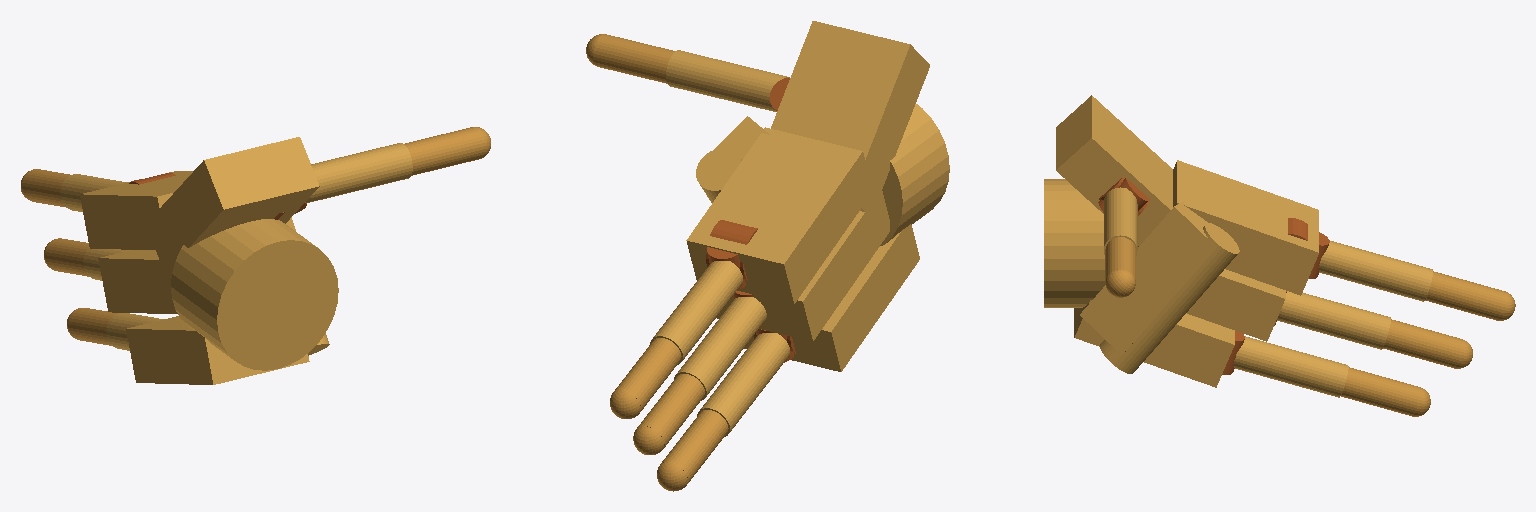
--- What the picture shows (computed from the rendered views, not written in the file) ---
3 views of the same robot in one strip: view 1: azimuth 30°, elevation 25°; view 2: azimuth 150°, elevation 25°; view 3: azimuth 270°, elevation 25° (orthographic).
Robot: sandia_hand_left — 34 links, 33 joints (12 revolute, 21 fixed); root link l_hand; default pose: every joint at zero.
Links seen in each view (by area): view 1: left_palm, left_f3_1, left_f3_2, left_f0_2, left_f2_2, left_f1_2, left_f0_1, left_f2_1, left_f1_1; view 2: left_palm, left_f3_1, left_f0_1, left_f2_1, left_f1_1, left_f1_2, left_f2_2, left_f0_2, left_f3_2, left_f0_0; view 3: left_palm, left_f2_1, left_f0_1, left_f1_1, left_f0_2, left_f2_2, left_f1_2, left_f3_1, left_f3_2, left_f0_0.
Boxes of the visible links, x1,y1,x2,y2 form: left_palm: (80, 137, 338, 384); left_f3_1: (306, 143, 412, 202); left_f3_2: (404, 127, 490, 175); left_f0_2: (21, 169, 70, 206); left_f2_2: (67, 308, 117, 345); left_f1_2: (44, 238, 89, 276); left_f0_1: (60, 174, 127, 211); left_f2_1: (106, 313, 163, 350); left_f1_1: (83, 248, 129, 280); left_palm: (686, 21, 949, 371); left_f3_1: (666, 50, 789, 111); left_f0_1: (650, 261, 742, 364); left_f2_1: (697, 333, 789, 436); left_f1_1: (674, 297, 766, 400); left_f1_2: (633, 374, 704, 454); left_f2_2: (657, 410, 728, 491); left_f0_2: (610, 338, 681, 418); left_f3_2: (586, 34, 674, 83); left_f0_0: (706, 220, 757, 289); left_palm: (1044, 95, 1318, 387); left_f2_1: (1234, 336, 1348, 397); left_f0_1: (1318, 241, 1432, 301); left_f1_1: (1277, 291, 1390, 349); left_f0_2: (1425, 271, 1515, 320); left_f2_2: (1341, 367, 1430, 416); left_f1_2: (1383, 319, 1472, 368); left_f3_1: (1104, 187, 1137, 255); left_f3_2: (1105, 237, 1135, 297); left_f0_0: (1288, 218, 1329, 278).
Size in the robot's own frame: 0.196 by 0.2782 by 0.1924 metres.
Geometry: primitives only (box / cylinder / sphere), no mesh files.

robot.urdf — sandia_hand_left:
<?xml version="1.0" ?>
<!-- copy from atlas_sandia_hand -->
<robot name="sandia_hand_left" xmlns:xacro="http://www.ros.org/wiki/xacro">

  <link name="left_palm">
    <origin rpy="0 0 0" xyz="0 0 0"/>
    <inertial>
      <mass value="1.303"/>
      <origin xyz="0 0 0"/>
      <!-- solid sphere with 5cm radius -->
      <inertia ixx="0.001303" ixy="0" ixz="0" iyy="0.001303" iyz="0" izz="0.001303"/>
    </inertial>
    <!-- begin simple shape approximation of palm -->
    <collision group="default">
      <origin rpy="0 1.57079632679 0.9" xyz="0.069 -0.016 0.038"/>
      <geometry>
        <cylinder length="0.100" radius="0.013"/>
      </geometry>
    </collision>
    <collision group="other">
      <origin rpy="-0.41 0 0.9" xyz="0.064 -0.008 0.021"/>
      <geometry>
        <box size="0.09 .035 .05"/>
      </geometry>
    </collision>
    <collision group="other">
      <origin rpy="0 1.57079632679 0" xyz="0.02 0 -0.005"/>
      <geometry>
        <cylinder length="0.05" radius="0.038"/>
      </geometry>
    </collision>
    <collision group="other">
      <origin rpy="0 0 -0.37" xyz="0.11 0.01 -0.005"/>
      <geometry>
        <box size="0.09 .03 .06"/>
      </geometry>
    </collision>
    <collision group="other">
      <origin rpy="0 0 -0.37" xyz="0.09 -0.02 -0.005"/>
      <geometry>
        <box size="0.09 .03 .06"/>
      </geometry>
    </collision>
    <collision group="other">
      <origin rpy="0 0 -0.37" xyz="0.060 -0.05 -0.005"/>
      <geometry>
        <box size="0.09 .03 .06"/>
      </geometry>
    </collision>
    <collision group="other">
      <origin rpy="0 0 -0.79" xyz="0.044 0.04 -0.005"/>
      <geometry>
        <box size="0.09 .03 .06"/>
      </geometry>
    </collision>
    <!--   end simple shape approximation of palm -->
    <!-- begin visual shape approximation of palm -->
    <visual>
      <origin rpy="0 1.57079632679 0.9" xyz="0.069 -0.016 0.038"/>
      <geometry>
        <cylinder length="0.100" radius="0.013"/>
      </geometry>
      <material name="left_sandia_hand_skin">
        <color rgba="0.835 0.655 0.345 1.0"/>
      </material>
    </visual>
    <visual>
      <origin rpy="-0.41 0 0.9" xyz="0.064 -0.008 0.021"/>
      <geometry>
        <box size="0.09 .035 .05"/>
      </geometry>
      <material name="left_sandia_hand_skin">
        <color rgba="0.835 0.655 0.345 1.0"/>
      </material>
    </visual>
    <visual>
      <origin rpy="0 1.57079632679 0" xyz="0.02 0 -0.005"/>
      <geometry>
        <cylinder length="0.05" radius="0.038"/>
      </geometry>
      <material name="left_sandia_hand_skin">
        <color rgba="0.835 0.655 0.345 1.0"/>
      </material>
    </visual>
    <visual>
      <origin rpy="0 0 -0.37" xyz="0.11 0.01 -0.005"/>
      <geometry>
        <box size="0.09 .03 .06"/>
      </geometry>
      <material name="left_sandia_hand_skin">
        <color rgba="0.835 0.655 0.345 1.0"/>
      </material>
    </visual>
    <visual>
      <origin rpy="0 0 -0.37" xyz="0.09 -0.02 -0.005"/>
      <geometry>
        <box size="0.09 .03 .06"/>
      </geometry>
      <material name="left_sandia_hand_skin">
        <color rgba="0.835 0.655 0.345 1.0"/>
      </material>
    </visual>
    <visual>
      <origin rpy="0 0 -0.37" xyz="0.060 -0.05 -0.005"/>
      <geometry>
        <box size="0.09 .03 .06"/>
      </geometry>
      <material name="left_sandia_hand_skin">
        <color rgba="0.835 0.655 0.345 1.0"/>
      </material>
    </visual>
    <visual>
      <origin rpy="0 0 -0.79" xyz="0.044 0.04 -0.005"/>
      <geometry>
        <box size="0.09 .03 .06"/>
      </geometry>
      <material name="left_sandia_hand_skin">
        <color rgba="0.835 0.655 0.345 1.0"/>
      </material>
    </visual>
    <!--   end visual shape approximation of palm -->
    <!-- begin collision mesh of f2 ->
      <collision group="default">
        <origin xyz="0 0 0" rpy="0 0 0"/>
        <geometry>
          <mesh filename="package://sandia_hand_description/meshes/palm.stl"/>
        </geometry>
      </collision>
      <!-   end collision mesh of f2 -->
    <!-- begin visual mesh of f2    ->
      <visual>
        <origin xyz="0 0 0" rpy="0 0 0"/>
        <geometry>
          <mesh filename="package://sandia_hand_description/meshes/palm.stl"/>
        </geometry>
        <material name="${side}_sandia_hand_skin">
          <color rgba="0.835 0.655 0.345 1.0"/>
        </material>
      </visual>
      <!-   end visual mesh of f2 -->
  </link>
  <link name="l_hand" />
  <joint name="left_sandia_hand_joint" type="fixed">
    <parent link="l_hand"/>
    <child link="left_palm"/>
    <origin rpy=" 1.57079 0  1.57079" xyz="0  0.1 0"/>
  </joint>
  <link name="left_f0_base">
    <origin rpy="0 0 0" xyz="0 0 0"/>
    <inertial>
      <!-- total mass is 2.303 kg, palm is about 1.303 kg, distribute the rest into _base -->
      <mass value="0.250"/>
      <!-- (2.303 - 1.303) / 4 -->
      <origin xyz="0 0 0"/>
      <!-- model as sphere with radius of 1cm -->
      <inertia ixx="0.00001" ixy="0" ixz="0" iyy="0.00001" iyz="0" izz="0.00001"/>
    </inertial>
  </link>
  <link name="left_f0_fixed_accel">
    <origin rpy="0 0 0" xyz="0 0 0"/>
    <inertial>
      <mass value="0.01"/>
      <origin xyz="0 0 0"/>
      <inertia ixx="0.000001" ixy="0" ixz="0" iyy="0.000001" iyz="0" izz="0.000001"/>
    </inertial>
  </link>
  <link name="left_f0_0">
    <origin rpy="0 0 0" xyz="0 0 0"/>
    <inertial>
      <mass value="0.106"/>
      <!-- F1 -->
      <origin xyz="0 0 0"/>
      <!-- solid cylinder -->
      <inertia ixx="0.000011925" ixy="0" ixz="0" iyy="0.00011505" iyz="0" izz="0.00011505"/>
    </inertial>
    <!-- begin simple shape approximation of f0 -->
    <collision group="default">
      <origin rpy="0 0 0" xyz="0 0 0.003"/>
      <geometry>
        <cylinder length="0.023" radius="0.015"/>
      </geometry>
    </collision>
    <collision group="other">
      <origin rpy="1.57079632679 0 0" xyz="0.011 0 0.003"/>
      <geometry>
        <cylinder length="0.023" radius="0.01"/>
      </geometry>
    </collision>
    <!--   end simple shape approximation of f0 -->
    <!-- begin visual shape approximation of f0 -->
    <visual>
      <origin rpy="0 0 0" xyz="0 0 0.003"/>
      <geometry>
        <cylinder length="0.023" radius="0.015"/>
      </geometry>
      <material name="left_sandia_hand_skin_suntan">
        <color rgba="0.7 0.4 0.2 1.0"/>
      </material>
    </visual>
    <visual>
      <origin rpy="1.57079632679 0 0" xyz="0.011 0 0.003"/>
      <geometry>
        <cylinder length="0.023" radius="0.01"/>
      </geometry>
      <material name="left_sandia_hand_skin_suntan">
        <color rgba="0.7 0.4 0.2 1.0"/>
      </material>
    </visual>
    <!--   end visual shape approximation of f0 -->
    <!-- begin collision mesh of f0 ->
      <collision group="default">
        <origin xyz="0 0 0" rpy="0 0 0"/>
        <geometry>
          <mesh filename="package://sandia_hand_description/meshes/f0.stl"/>
        </geometry>
      </collision>
      <!-   end collision mesh of f0 -->
    <!-- begin visual mesh of f0 ->
      <visual>
        <origin xyz="0 0 0" rpy="0 0 0"/>
        <geometry>
          <mesh filename="package://sandia_hand_description/meshes/f0.stl"/>
        </geometry>
        <material name="${side}_sandia_hand_skin_suntan">
          <color rgba="0.7 0.4 0.2 1.0"/>
        </material>
      </visual>
      <!-   end visual mesh of f0 -->
  </link>
  <link name="left_f0_1">
    <origin rpy="0 0 0" xyz="0 0 0"/>
    <inertial>
      <mass value="0.033"/>
      <!-- F2 -->
      <origin xyz="0 0 0"/>
      <!-- solid cylinder -->
      <inertia ixx="0.00000165" ixy="0" ixz="0" iyy="0.00001316975" iyz="0" izz="0.00001316975"/>
    </inertial>
    <!-- begin simple shape approximation of f1 -->
    <collision group="default">
      <origin rpy="0 1.57079632679 0" xyz="0.024 0 0"/>
      <geometry>
        <cylinder length="0.067" radius="0.01"/>
      </geometry>
    </collision>
    <!--   end simple shape approximation of f1 -->
    <!-- begin visual shape approximation of f1 -->
    <visual>
      <origin rpy="0 1.57079632679 0" xyz="0.024 0 0"/>
      <geometry>
        <cylinder length="0.067" radius="0.01"/>
      </geometry>
      <material name="left_sandia_hand_skin">
        <color rgba="0.835 0.655 0.345 1.0"/>
      </material>
    </visual>
    <!--   end visual shape approximation of f1 -->
    <!-- begin collision mesh of f1 ->
      <collision group="default">
        <origin xyz="0 0 0" rpy="0 0 0"/>
        <geometry>
          <mesh filename="package://sandia_hand_description/meshes/f1.stl"/>
        </geometry>
      </collision>
      <!-   end collision mesh of f1 -->
    <!-- begin visual mesh of f1 ->
      <visual>
        <origin xyz="0 0 0" rpy="0 0 0"/>
        <geometry>
          <mesh filename="package://sandia_hand_description/meshes/f1.stl"/>
        </geometry>
        <material name="${side}_sandia_hand_skin">
          <color rgba="0.835 0.655 0.345 1.0"/>
        </material>
      </visual>
      <!-   end visual mesh of f1 -->
  </link>
  <link name="left_f0_1_accel">
    <origin rpy="0 0 0" xyz="0 0 0"/>
    <inertial>
      <mass value="0.01"/>
      <origin xyz="0 0 0"/>
      <inertia ixx="0.000001" ixy="0" ixz="0" iyy="0.000001" iyz="0" izz="0.000001"/>
    </inertial>
  </link>
  <link name="left_f0_2">
    <origin rpy="0 0 0" xyz="0 0 0"/>
    <inertial>
      <mass value="0.033"/>
      <!-- F3 -->
      <origin xyz="0 0 0"/>
      <!-- solid cylinder -->
      <inertia ixx="0.0000013365" ixy="0" ixz="0" iyy="0.000009603" iyz="0" izz="0.000009603"/>
    </inertial>
    <!-- begin simple shape approximation of f2 -->
    <collision group="default">
      <origin rpy="0 1.57079632679 0" xyz="0.024 0 0"/>
      <geometry>
        <cylinder length="0.057" radius="0.009"/>
      </geometry>
    </collision>
    <collision group="other">
      <origin rpy="0 0 0" xyz="0.052 0 0"/>
      <geometry>
        <sphere radius="0.009"/>
      </geometry>
    </collision>
    <!--   end simple shape approximation of f2 -->
    <!-- begin visual shape approximation of f2 -->
    <visual>
      <origin rpy="0 1.57079632679 0" xyz="0.024 0 0"/>
      <geometry>
        <cylinder length="0.057" radius="0.009"/>
      </geometry>
      <material name="left_sandia_hand_skin_suntan">
        <color rgba="0.8 0.6 0.3 1.0"/>
      </material>
    </visual>
    <visual>
      <origin rpy="0 0 0" xyz="0.052 0 0"/>
      <geometry>
        <sphere radius="0.009"/>
      </geometry>
      <material name="left_sandia_hand_skin_suntan">
        <color rgba="0.8 0.6 0.3 1.0"/>
      </material>
    </visual>
    <!-- begin collision mesh of f2    ->
      <collision group="default">
        <origin xyz="0 0 0" rpy="0 0 0"/>
        <geometry>
          <mesh filename="package://sandia_hand_description/meshes/f2.stl"/>
        </geometry>
      </collision>
      <!-   end collision mesh of f2 -->
    <!-- begin visual mesh of f2    ->
      <visual>
        <origin xyz="0 0 0" rpy="0 0 0"/>
        <geometry>
          <mesh filename="package://sandia_hand_description/meshes/f2.stl"/>
        </geometry>
        <material name="${side}_sandia_hand_skin_suntan">
          <color rgba="0.8 0.6 0.3 1.0"/>
        </material>
      </visual>
      <!-   end visual mesh of f2 -->
  </link>
  <link name="left_f0_2_accel">
    <origin rpy="0 0 0" xyz="0 0 0"/>
    <inertial>
      <mass value="0.01"/>
      <origin xyz="0 0 0"/>
      <inertia ixx="0.000001" ixy="0" ixz="0" iyy="0.000001" iyz="0" izz="0.000001"/>
    </inertial>
  </link>
  <joint name="left_f0_base" type="fixed">
    <parent link="left_palm"/>
    <child link="left_f0_base"/>
    <origin rpy="0 0 -0.3" xyz="0.14 0.0 0"/>
  </joint>
  <joint name="left_f0_j0" type="revolute">
    <axis xyz="0 0 -1"/>
    <parent link="left_f0_base"/>
    <child link="left_f0_0"/>
    <limit effort="11" lower="-1.57079632679" upper="1.57079632679" velocity="24"/>
    <safety_controller k_position="1000.0" k_velocity="1000.0" soft_lower_limit="-11.57079" soft_upper_limit="11.57079"/>
    <dynamics damping="1.0"/>
    <origin rpy="0 0 0" xyz="0 0 0"/>
  </joint>
  <joint name="left_f0_j1" type="revolute">
    <axis xyz="0 0 1"/>
    <parent link="left_f0_0"/>
    <child link="left_f0_1"/>
    <limit effort="28" lower="-1.57079632679" upper="1.57079632679" velocity="24"/>
    <safety_controller k_position="1000.0" k_velocity="1000.0" soft_lower_limit="-11.57079" soft_upper_limit="11.57079"/>
    <dynamics damping="1.0"/>
    <origin rpy="1.57079632679 0 0" xyz="0.028 0 0"/>
  </joint>
  <joint name="left_f0_j2" type="revolute">
    <axis xyz="0 0 1"/>
    <parent link="left_f0_1"/>
    <child link="left_f0_2"/>
    <origin rpy="0 0 0" xyz="0.05 0 0"/>
    <safety_controller k_position="1000.0" k_velocity="1000.0" soft_lower_limit="-11.57079" soft_upper_limit="11.57079"/>
    <dynamics damping="1.0"/>
    <limit effort="28" lower="-1.57079632679" upper="1.57079632679" velocity="24"/>
  </joint>
  <joint name="left_f0_fixed_accel" type="fixed">
    <parent link="left_f0_base"/>
    <child link="left_f0_fixed_accel"/>
    <origin rpy="0 0 0" xyz="-0.05 0 0"/>
  </joint>
  <joint name="left_f0_1_accel" type="fixed">
    <parent link="left_f0_1"/>
    <child link="left_f0_1_accel"/>
    <origin rpy="-1.57079632679 0 0" xyz="0.03 0 0"/>
  </joint>
  <joint name="left_f0_2_accel" type="fixed">
    <parent link="left_f0_2"/>
    <child link="left_f0_2_accel"/>
    <origin rpy="-1.57079632679 0 0" xyz="0.04 0 0"/>
  </joint>
  <transmission name="left_f0_j0" type="pr2_mechanism_model/SimpleTransmission">
    <joint name="left_f0_j0"/>
    <actuator name="left_f0_j0_motor"/>
    <mechanicalReduction>1</mechanicalReduction>
  </transmission>
  <transmission name="left_f0_j1" type="pr2_mechanism_model/SimpleTransmission">
    <joint name="left_f0_j1"/>
    <actuator name="left_f0_j1_motor"/>
    <mechanicalReduction>1</mechanicalReduction>
  </transmission>
  <transmission name="left_f0_j2" type="pr2_mechanism_model/SimpleTransmission">
    <joint name="left_f0_j2"/>
    <actuator name="left_f0_j2_motor"/>
    <mechanicalReduction>1</mechanicalReduction>
  </transmission>
  <gazebo reference="left_f0_base">
    <mu1>1.1</mu1>
    <mu2>1.1</mu2>
    <kp>1000000.0</kp>
    <kd>10.0</kd>
    <maxVel>0.1</maxVel>
    <minDepth>0.00</minDepth>
    <maxContacts>1</maxContacts>
    <material>Gazebo/FlatBlack</material>
  </gazebo>
  <gazebo reference="left_f0_0">
    <mu1>1.1</mu1>
    <mu2>1.1</mu2>
    <kp>1000000.0</kp>
    <kd>10.0</kd>
    <maxVel>0.1</maxVel>
    <minDepth>0.00</minDepth>
    <maxContacts>1</maxContacts>
    <material>Gazebo/FlatBlack</material>
  </gazebo>
  <gazebo reference="left_f0_1">
    <mu1>1.1</mu1>
    <mu2>1.1</mu2>
    <kp>1000000.0</kp>
    <kd>10.0</kd>
    <maxVel>0.1</maxVel>
    <minDepth>0.00</minDepth>
    <maxContacts>1</maxContacts>
    <material>Gazebo/FlatBlack</material>
  </gazebo>
  <gazebo reference="left_f0_2">
    <mu1>1.1</mu1>
    <mu2>1.1</mu2>
    <kp>1000000.0</kp>
    <kd>10.0</kd>
    <maxVel>0.1</maxVel>
    <minDepth>0.00</minDepth>
    <maxContacts>1</maxContacts>
    <material>Gazebo/FlatBlack</material>
  </gazebo>
  <gazebo reference="left_f0_j0">
    <cfmDamping>1</cfmDamping>
  </gazebo>
  <gazebo reference="left_f0_j1">
    <cfmDamping>1</cfmDamping>
  </gazebo>
  <gazebo reference="left_f0_j2">
    <cfmDamping>1</cfmDamping>
  </gazebo>
  <link name="left_f1_base">
    <origin rpy="0 0 0" xyz="0 0 0"/>
    <inertial>
      <!-- total mass is 2.303 kg, palm is about 1.303 kg, distribute the rest into _base -->
      <mass value="0.250"/>
      <!-- (2.303 - 1.303) / 4 -->
      <origin xyz="0 0 0"/>
      <!-- model as sphere with radius of 1cm -->
      <inertia ixx="0.00001" ixy="0" ixz="0" iyy="0.00001" iyz="0" izz="0.00001"/>
    </inertial>
  </link>
  <link name="left_f1_fixed_accel">
    <origin rpy="0 0 0" xyz="0 0 0"/>
    <inertial>
      <mass value="0.01"/>
      <origin xyz="0 0 0"/>
      <inertia ixx="0.000001" ixy="0" ixz="0" iyy="0.000001" iyz="0" izz="0.000001"/>
    </inertial>
  </link>
  <link name="left_f1_0">
    <origin rpy="0 0 0" xyz="0 0 0"/>
    <inertial>
      <mass value="0.106"/>
      <!-- F1 -->
      <origin xyz="0 0 0"/>
      <!-- solid cylinder -->
      <inertia ixx="0.000011925" ixy="0" ixz="0" iyy="0.00011505" iyz="0" izz="0.00011505"/>
    </inertial>
    <!-- begin simple shape approximation of f0 -->
    <collision group="default">
      <origin rpy="0 0 0" xyz="0 0 0.003"/>
      <geometry>
        <cylinder length="0.023" radius="0.015"/>
      </geometry>
    </collision>
    <collision group="other">
      <origin rpy="1.57079632679 0 0" xyz="0.011 0 0.003"/>
      <geometry>
        <cylinder length="0.023" radius="0.01"/>
      </geometry>
    </collision>
    <!--   end simple shape approximation of f0 -->
    <!-- begin visual shape approximation of f0 -->
    <visual>
      <origin rpy="0 0 0" xyz="0 0 0.003"/>
      <geometry>
        <cylinder length="0.023" radius="0.015"/>
      </geometry>
      <material name="left_sandia_hand_skin_suntan">
        <color rgba="0.7 0.4 0.2 1.0"/>
      </material>
    </visual>
    <visual>
      <origin rpy="1.57079632679 0 0" xyz="0.011 0 0.003"/>
      <geometry>
        <cylinder length="0.023" radius="0.01"/>
      </geometry>
      <material name="left_sandia_hand_skin_suntan">
        <color rgba="0.7 0.4 0.2 1.0"/>
      </material>
    </visual>
    <!--   end visual shape approximation of f0 -->
    <!-- begin collision mesh of f0 ->
      <collision group="default">
        <origin xyz="0 0 0" rpy="0 0 0"/>
        <geometry>
          <mesh filename="package://sandia_hand_description/meshes/f0.stl"/>
        </geometry>
      </collision>
      <!-   end collision mesh of f0 -->
    <!-- begin visual mesh of f0 ->
      <visual>
        <origin xyz="0 0 0" rpy="0 0 0"/>
        <geometry>
          <mesh filename="package://sandia_hand_description/meshes/f0.stl"/>
        </geometry>
        <material name="${side}_sandia_hand_skin_suntan">
          <color rgba="0.7 0.4 0.2 1.0"/>
        </material>
      </visual>
      <!-   end visual mesh of f0 -->
  </link>
  <link name="left_f1_1">
    <origin rpy="0 0 0" xyz="0 0 0"/>
    <inertial>
      <mass value="0.033"/>
      <!-- F2 -->
      <origin xyz="0 0 0"/>
      <!-- solid cylinder -->
      <inertia ixx="0.00000165" ixy="0" ixz="0" iyy="0.00001316975" iyz="0" izz="0.00001316975"/>
    </inertial>
    <!-- begin simple shape approximation of f1 -->
    <collision group="default">
      <origin rpy="0 1.57079632679 0" xyz="0.024 0 0"/>
      <geometry>
        <cylinder length="0.067" radius="0.01"/>
      </geometry>
    </collision>
    <!--   end simple shape approximation of f1 -->
    <!-- begin visual shape approximation of f1 -->
    <visual>
      <origin rpy="0 1.57079632679 0" xyz="0.024 0 0"/>
      <geometry>
        <cylinder length="0.067" radius="0.01"/>
      </geometry>
      <material name="left_sandia_hand_skin">
        <color rgba="0.835 0.655 0.345 1.0"/>
      </material>
    </visual>
    <!--   end visual shape approximation of f1 -->
    <!-- begin collision mesh of f1 ->
      <collision group="default">
        <origin xyz="0 0 0" rpy="0 0 0"/>
        <geometry>
          <mesh filename="package://sandia_hand_description/meshes/f1.stl"/>
        </geometry>
      </collision>
      <!-   end collision mesh of f1 -->
    <!-- begin visual mesh of f1 ->
      <visual>
        <origin xyz="0 0 0" rpy="0 0 0"/>
        <geometry>
          <mesh filename="package://sandia_hand_description/meshes/f1.stl"/>
        </geometry>
        <material name="${side}_sandia_hand_skin">
          <color rgba="0.835 0.655 0.345 1.0"/>
        </material>
      </visual>
      <!-   end visual mesh of f1 -->
  </link>
  <link name="left_f1_1_accel">
    <origin rpy="0 0 0" xyz="0 0 0"/>
    <inertial>
      <mass value="0.01"/>
      <origin xyz="0 0 0"/>
      <inertia ixx="0.000001" ixy="0" ixz="0" iyy="0.000001" iyz="0" izz="0.000001"/>
    </inertial>
  </link>
  <link name="left_f1_2">
    <origin rpy="0 0 0" xyz="0 0 0"/>
    <inertial>
      <mass value="0.033"/>
      <!-- F3 -->
      <origin xyz="0 0 0"/>
      <!-- solid cylinder -->
      <inertia ixx="0.0000013365" ixy="0" ixz="0" iyy="0.000009603" iyz="0" izz="0.000009603"/>
    </inertial>
    <!-- begin simple shape approximation of f2 -->
    <collision group="default">
      <origin rpy="0 1.57079632679 0" xyz="0.024 0 0"/>
      <geometry>
        <cylinder length="0.057" radius="0.009"/>
      </geometry>
    </collision>
    <collision group="other">
      <origin rpy="0 0 0" xyz="0.052 0 0"/>
      <geometry>
        <sphere radius="0.009"/>
      </geometry>
    </collision>
    <!--   end simple shape approximation of f2 -->
    <!-- begin visual shape approximation of f2 -->
    <visual>
      <origin rpy="0 1.57079632679 0" xyz="0.024 0 0"/>
      <geometry>
        <cylinder length="0.057" radius="0.009"/>
      </geometry>
      <material name="left_sandia_hand_skin_suntan">
        <color rgba="0.8 0.6 0.3 1.0"/>
      </material>
    </visual>
    <visual>
      <origin rpy="0 0 0" xyz="0.052 0 0"/>
      <geometry>
        <sphere radius="0.009"/>
      </geometry>
      <material name="left_sandia_hand_skin_suntan">
        <color rgba="0.8 0.6 0.3 1.0"/>
      </material>
    </visual>
    <!-- begin collision mesh of f2    ->
      <collision group="default">
        <origin xyz="0 0 0" rpy="0 0 0"/>
        <geometry>
          <mesh filename="package://sandia_hand_description/meshes/f2.stl"/>
        </geometry>
      </collision>
      <!-   end collision mesh of f2 -->
    <!-- begin visual mesh of f2    ->
      <visual>
        <origin xyz="0 0 0" rpy="0 0 0"/>
        <geometry>
          <mesh filename="package://sandia_hand_description/meshes/f2.stl"/>
        </geometry>
        <material name="${side}_sandia_hand_skin_suntan">
          <color rgba="0.8 0.6 0.3 1.0"/>
        </material>
      </visual>
      <!-   end visual mesh of f2 -->
  </link>
  <link name="left_f1_2_accel">
    <origin rpy="0 0 0" xyz="0 0 0"/>
    <inertial>
      <mass value="0.01"/>
      <origin xyz="0 0 0"/>
      <inertia ixx="0.000001" ixy="0" ixz="0" iyy="0.000001" iyz="0" izz="0.000001"/>
    </inertial>
  </link>
  <joint name="left_f1_base" type="fixed">
    <parent link="left_palm"/>
    <child link="left_f1_base"/>
    <origin rpy="0 0 -0.3" xyz="0.115 -0.03122 0"/>
  </joint>
  <joint name="left_f1_j0" type="revolute">
    <axis xyz="0 0 -1"/>
    <parent link="left_f1_base"/>
    <child link="left_f1_0"/>
    <limit effort="11" lower="-1.57079632679" upper="1.57079632679" velocity="24"/>
    <safety_controller k_position="1000.0" k_velocity="1000.0" soft_lower_limit="-11.57079" soft_upper_limit="11.57079"/>
    <dynamics damping="1.0"/>
    <origin rpy="0 0 0" xyz="0 0 0"/>
  </joint>
  <joint name="left_f1_j1" type="revolute">
    <axis xyz="0 0 1"/>
    <parent link="left_f1_0"/>
    <child link="left_f1_1"/>
    <limit effort="28" lower="-1.57079632679" upper="1.57079632679" velocity="24"/>
    <safety_controller k_position="1000.0" k_velocity="1000.0" soft_lower_limit="-11.57079" soft_upper_limit="11.57079"/>
    <dynamics damping="1.0"/>
    <origin rpy="1.57079632679 0 0" xyz="0.028 0 0"/>
  </joint>
  <joint name="left_f1_j2" type="revolute">
    <axis xyz="0 0 1"/>
    <parent link="left_f1_1"/>
    <child link="left_f1_2"/>
    <origin rpy="0 0 0" xyz="0.05 0 0"/>
    <safety_controller k_position="1000.0" k_velocity="1000.0" soft_lower_limit="-11.57079" soft_upper_limit="11.57079"/>
    <dynamics damping="1.0"/>
    <limit effort="28" lower="-1.57079632679" upper="1.57079632679" velocity="24"/>
  </joint>
  <joint name="left_f1_fixed_accel" type="fixed">
    <parent link="left_f1_base"/>
    <child link="left_f1_fixed_accel"/>
    <origin rpy="0 0 0" xyz="-0.05 0 0"/>
  </joint>
  <joint name="left_f1_1_accel" type="fixed">
    <parent link="left_f1_1"/>
    <child link="left_f1_1_accel"/>
    <origin rpy="-1.57079632679 0 0" xyz="0.03 0 0"/>
  </joint>
  <joint name="left_f1_2_accel" type="fixed">
    <parent link="left_f1_2"/>
    <child link="left_f1_2_accel"/>
    <origin rpy="-1.57079632679 0 0" xyz="0.04 0 0"/>
  </joint>
  <transmission name="left_f1_j0" type="pr2_mechanism_model/SimpleTransmission">
    <joint name="left_f1_j0"/>
    <actuator name="left_f1_j0_motor"/>
    <mechanicalReduction>1</mechanicalReduction>
  </transmission>
  <transmission name="left_f1_j1" type="pr2_mechanism_model/SimpleTransmission">
    <joint name="left_f1_j1"/>
    <actuator name="left_f1_j1_motor"/>
    <mechanicalReduction>1</mechanicalReduction>
  </transmission>
  <transmission name="left_f1_j2" type="pr2_mechanism_model/SimpleTransmission">
    <joint name="left_f1_j2"/>
    <actuator name="left_f1_j2_motor"/>
    <mechanicalReduction>1</mechanicalReduction>
  </transmission>
  <gazebo reference="left_f1_base">
    <mu1>1.1</mu1>
    <mu2>1.1</mu2>
    <kp>1000000.0</kp>
    <kd>10.0</kd>
    <maxVel>0.1</maxVel>
    <minDepth>0.00</minDepth>
    <maxContacts>1</maxContacts>
    <material>Gazebo/FlatBlack</material>
  </gazebo>
  <gazebo reference="left_f1_0">
    <mu1>1.1</mu1>
    <mu2>1.1</mu2>
    <kp>1000000.0</kp>
    <kd>10.0</kd>
    <maxVel>0.1</maxVel>
    <minDepth>0.00</minDepth>
    <maxContacts>1</maxContacts>
    <material>Gazebo/FlatBlack</material>
  </gazebo>
  <gazebo reference="left_f1_1">
    <mu1>1.1</mu1>
    <mu2>1.1</mu2>
    <kp>1000000.0</kp>
    <kd>10.0</kd>
    <maxVel>0.1</maxVel>
    <minDepth>0.00</minDepth>
    <maxContacts>1</maxContacts>
    <material>Gazebo/FlatBlack</material>
  </gazebo>
  <gazebo reference="left_f1_2">
    <mu1>1.1</mu1>
    <mu2>1.1</mu2>
    <kp>1000000.0</kp>
    <kd>10.0</kd>
    <maxVel>0.1</maxVel>
    <minDepth>0.00</minDepth>
    <maxContacts>1</maxContacts>
    <material>Gazebo/FlatBlack</material>
  </gazebo>
  <gazebo reference="left_f1_j0">
    <cfmDamping>1</cfmDamping>
  </gazebo>
  <gazebo reference="left_f1_j1">
    <cfmDamping>1</cfmDamping>
  </gazebo>
  <gazebo reference="left_f1_j2">
    <cfmDamping>1</cfmDamping>
  </gazebo>
  <link name="left_f2_base">
    <origin rpy="0 0 0" xyz="0 0 0"/>
    <inertial>
      <!-- total mass is 2.303 kg, palm is about 1.303 kg, distribute the rest into _base -->
      <mass value="0.250"/>
      <!-- (2.303 - 1.303) / 4 -->
      <origin xyz="0 0 0"/>
      <!-- model as sphere with radius of 1cm -->
      <inertia ixx="0.00001" ixy="0" ixz="0" iyy="0.00001" iyz="0" izz="0.00001"/>
    </inertial>
  </link>
  <link name="left_f2_fixed_accel">
    <origin rpy="0 0 0" xyz="0 0 0"/>
    <inertial>
      <mass value="0.01"/>
      <origin xyz="0 0 0"/>
      <inertia ixx="0.000001" ixy="0" ixz="0" iyy="0.000001" iyz="0" izz="0.000001"/>
    </inertial>
  </link>
  <link name="left_f2_0">
    <origin rpy="0 0 0" xyz="0 0 0"/>
    <inertial>
      <mass value="0.106"/>
      <!-- F1 -->
      <origin xyz="0 0 0"/>
      <!-- solid cylinder -->
      <inertia ixx="0.000011925" ixy="0" ixz="0" iyy="0.00011505" iyz="0" izz="0.00011505"/>
    </inertial>
    <!-- begin simple shape approximation of f0 -->
    <collision group="default">
      <origin rpy="0 0 0" xyz="0 0 0.003"/>
      <geometry>
        <cylinder length="0.023" radius="0.015"/>
      </geometry>
    </collision>
    <collision group="other">
      <origin rpy="1.57079632679 0 0" xyz="0.011 0 0.003"/>
      <geometry>
        <cylinder length="0.023" radius="0.01"/>
      </geometry>
    </collision>
    <!--   end simple shape approximation of f0 -->
    <!-- begin visual shape approximation of f0 -->
    <visual>
      <origin rpy="0 0 0" xyz="0 0 0.003"/>
      <geometry>
        <cylinder length="0.023" radius="0.015"/>
      </geometry>
      <material name="left_sandia_hand_skin_suntan">
        <color rgba="0.7 0.4 0.2 1.0"/>
      </material>
    </visual>
    <visual>
      <origin rpy="1.57079632679 0 0" xyz="0.011 0 0.003"/>
      <geometry>
        <cylinder length="0.023" radius="0.01"/>
      </geometry>
      <material name="left_sandia_hand_skin_suntan">
        <color rgba="0.7 0.4 0.2 1.0"/>
      </material>
    </visual>
    <!--   end visual shape approximation of f0 -->
    <!-- begin collision mesh of f0 ->
      <collision group="default">
        <origin xyz="0 0 0" rpy="0 0 0"/>
        <geometry>
          <mesh filename="package://sandia_hand_description/meshes/f0.stl"/>
        </geometry>
      </collision>
      <!-   end collision mesh of f0 -->
    <!-- begin visual mesh of f0 ->
      <visual>
        <origin xyz="0 0 0" rpy="0 0 0"/>
        <geometry>
          <mesh filename="package://sandia_hand_description/meshes/f0.stl"/>
        </geometry>
        <material name="${side}_sandia_hand_skin_suntan">
          <color rgba="0.7 0.4 0.2 1.0"/>
        </material>
      </visual>
      <!-   end visual mesh of f0 -->
  </link>
  <link name="left_f2_1">
    <origin rpy="0 0 0" xyz="0 0 0"/>
    <inertial>
      <mass value="0.033"/>
      <!-- F2 -->
      <origin xyz="0 0 0"/>
      <!-- solid cylinder -->
      <inertia ixx="0.00000165" ixy="0" ixz="0" iyy="0.00001316975" iyz="0" izz="0.00001316975"/>
    </inertial>
    <!-- begin simple shape approximation of f1 -->
    <collision group="default">
      <origin rpy="0 1.57079632679 0" xyz="0.024 0 0"/>
      <geometry>
        <cylinder length="0.067" radius="0.01"/>
      </geometry>
    </collision>
    <!--   end simple shape approximation of f1 -->
    <!-- begin visual shape approximation of f1 -->
    <visual>
      <origin rpy="0 1.57079632679 0" xyz="0.024 0 0"/>
      <geometry>
        <cylinder length="0.067" radius="0.01"/>
      </geometry>
      <material name="left_sandia_hand_skin">
        <color rgba="0.835 0.655 0.345 1.0"/>
      </material>
    </visual>
    <!--   end visual shape approximation of f1 -->
    <!-- begin collision mesh of f1 ->
      <collision group="default">
        <origin xyz="0 0 0" rpy="0 0 0"/>
        <geometry>
          <mesh filename="package://sandia_hand_description/meshes/f1.stl"/>
        </geometry>
      </collision>
      <!-   end collision mesh of f1 -->
    <!-- begin visual mesh of f1 ->
      <visual>
        <origin xyz="0 0 0" rpy="0 0 0"/>
        <geometry>
          <mesh filename="package://sandia_hand_description/meshes/f1.stl"/>
        </geometry>
        <material name="${side}_sandia_hand_skin">
          <color rgba="0.835 0.655 0.345 1.0"/>
        </material>
      </visual>
      <!-   end visual mesh of f1 -->
  </link>
  <link name="left_f2_1_accel">
    <origin rpy="0 0 0" xyz="0 0 0"/>
    <inertial>
      <mass value="0.01"/>
      <origin xyz="0 0 0"/>
      <inertia ixx="0.000001" ixy="0" ixz="0" iyy="0.000001" iyz="0" izz="0.000001"/>
    </inertial>
  </link>
  <link name="left_f2_2">
    <origin rpy="0 0 0" xyz="0 0 0"/>
    <inertial>
      <mass value="0.033"/>
      <!-- F3 -->
      <origin xyz="0 0 0"/>
      <!-- solid cylinder -->
      <inertia ixx="0.0000013365" ixy="0" ixz="0" iyy="0.000009603" iyz="0" izz="0.000009603"/>
    </inertial>
    <!-- begin simple shape approximation of f2 -->
    <collision group="default">
      <origin rpy="0 1.57079632679 0" xyz="0.024 0 0"/>
      <geometry>
        <cylinder length="0.057" radius="0.009"/>
      </geometry>
    </collision>
    <collision group="other">
      <origin rpy="0 0 0" xyz="0.052 0 0"/>
      <geometry>
        <sphere radius="0.009"/>
      </geometry>
    </collision>
    <!--   end simple shape approximation of f2 -->
    <!-- begin visual shape approximation of f2 -->
    <visual>
      <origin rpy="0 1.57079632679 0" xyz="0.024 0 0"/>
      <geometry>
        <cylinder length="0.057" radius="0.009"/>
      </geometry>
      <material name="left_sandia_hand_skin_suntan">
        <color rgba="0.8 0.6 0.3 1.0"/>
      </material>
    </visual>
    <visual>
      <origin rpy="0 0 0" xyz="0.052 0 0"/>
      <geometry>
        <sphere radius="0.009"/>
      </geometry>
      <material name="left_sandia_hand_skin_suntan">
        <color rgba="0.8 0.6 0.3 1.0"/>
      </material>
    </visual>
    <!-- begin collision mesh of f2    ->
      <collision group="default">
        <origin xyz="0 0 0" rpy="0 0 0"/>
        <geometry>
          <mesh filename="package://sandia_hand_description/meshes/f2.stl"/>
        </geometry>
      </collision>
      <!-   end collision mesh of f2 -->
    <!-- begin visual mesh of f2    ->
      <visual>
        <origin xyz="0 0 0" rpy="0 0 0"/>
        <geometry>
          <mesh filename="package://sandia_hand_description/meshes/f2.stl"/>
        </geometry>
        <material name="${side}_sandia_hand_skin_suntan">
          <color rgba="0.8 0.6 0.3 1.0"/>
        </material>
      </visual>
      <!-   end visual mesh of f2 -->
  </link>
  <link name="left_f2_2_accel">
    <origin rpy="0 0 0" xyz="0 0 0"/>
    <inertial>
      <mass value="0.01"/>
      <origin xyz="0 0 0"/>
      <inertia ixx="0.000001" ixy="0" ixz="0" iyy="0.000001" iyz="0" izz="0.000001"/>
    </inertial>
  </link>
  <joint name="left_f2_base" type="fixed">
    <parent link="left_palm"/>
    <child link="left_f2_base"/>
    <origin rpy="0 0 -0.3" xyz="0.09 -0.06245 0"/>
  </joint>
  <joint name="left_f2_j0" type="revolute">
    <axis xyz="0 0 -1"/>
    <parent link="left_f2_base"/>
    <child link="left_f2_0"/>
    <limit effort="11" lower="-1.57079632679" upper="1.57079632679" velocity="24"/>
    <safety_controller k_position="1000.0" k_velocity="1000.0" soft_lower_limit="-11.57079" soft_upper_limit="11.57079"/>
    <dynamics damping="1.0"/>
    <origin rpy="0 0 0" xyz="0 0 0"/>
  </joint>
  <joint name="left_f2_j1" type="revolute">
    <axis xyz="0 0 1"/>
    <parent link="left_f2_0"/>
    <child link="left_f2_1"/>
    <limit effort="28" lower="-1.57079632679" upper="1.57079632679" velocity="24"/>
    <safety_controller k_position="1000.0" k_velocity="1000.0" soft_lower_limit="-11.57079" soft_upper_limit="11.57079"/>
    <dynamics damping="1.0"/>
    <origin rpy="1.57079632679 0 0" xyz="0.028 0 0"/>
  </joint>
  <joint name="left_f2_j2" type="revolute">
    <axis xyz="0 0 1"/>
    <parent link="left_f2_1"/>
    <child link="left_f2_2"/>
    <origin rpy="0 0 0" xyz="0.05 0 0"/>
    <safety_controller k_position="1000.0" k_velocity="1000.0" soft_lower_limit="-11.57079" soft_upper_limit="11.57079"/>
    <dynamics damping="1.0"/>
    <limit effort="28" lower="-1.57079632679" upper="1.57079632679" velocity="24"/>
  </joint>
  <joint name="left_f2_fixed_accel" type="fixed">
    <parent link="left_f2_base"/>
    <child link="left_f2_fixed_accel"/>
    <origin rpy="0 0 0" xyz="-0.05 0 0"/>
  </joint>
  <joint name="left_f2_1_accel" type="fixed">
    <parent link="left_f2_1"/>
    <child link="left_f2_1_accel"/>
    <origin rpy="-1.57079632679 0 0" xyz="0.03 0 0"/>
  </joint>
  <joint name="left_f2_2_accel" type="fixed">
    <parent link="left_f2_2"/>
    <child link="left_f2_2_accel"/>
    <origin rpy="-1.57079632679 0 0" xyz="0.04 0 0"/>
  </joint>
  <transmission name="left_f2_j0" type="pr2_mechanism_model/SimpleTransmission">
    <joint name="left_f2_j0"/>
    <actuator name="left_f2_j0_motor"/>
    <mechanicalReduction>1</mechanicalReduction>
  </transmission>
  <transmission name="left_f2_j1" type="pr2_mechanism_model/SimpleTransmission">
    <joint name="left_f2_j1"/>
    <actuator name="left_f2_j1_motor"/>
    <mechanicalReduction>1</mechanicalReduction>
  </transmission>
  <transmission name="left_f2_j2" type="pr2_mechanism_model/SimpleTransmission">
    <joint name="left_f2_j2"/>
    <actuator name="left_f2_j2_motor"/>
    <mechanicalReduction>1</mechanicalReduction>
  </transmission>
  <gazebo reference="left_f2_base">
    <mu1>1.1</mu1>
    <mu2>1.1</mu2>
    <kp>1000000.0</kp>
    <kd>10.0</kd>
    <maxVel>0.1</maxVel>
    <minDepth>0.00</minDepth>
    <maxContacts>1</maxContacts>
    <material>Gazebo/FlatBlack</material>
  </gazebo>
  <gazebo reference="left_f2_0">
    <mu1>1.1</mu1>
    <mu2>1.1</mu2>
    <kp>1000000.0</kp>
    <kd>10.0</kd>
    <maxVel>0.1</maxVel>
    <minDepth>0.00</minDepth>
    <maxContacts>1</maxContacts>
    <material>Gazebo/FlatBlack</material>
  </gazebo>
  <gazebo reference="left_f2_1">
    <mu1>1.1</mu1>
    <mu2>1.1</mu2>
    <kp>1000000.0</kp>
    <kd>10.0</kd>
    <maxVel>0.1</maxVel>
    <minDepth>0.00</minDepth>
    <maxContacts>1</maxContacts>
    <material>Gazebo/FlatBlack</material>
  </gazebo>
  <gazebo reference="left_f2_2">
    <mu1>1.1</mu1>
    <mu2>1.1</mu2>
    <kp>1000000.0</kp>
    <kd>10.0</kd>
    <maxVel>0.1</maxVel>
    <minDepth>0.00</minDepth>
    <maxContacts>1</maxContacts>
    <material>Gazebo/FlatBlack</material>
  </gazebo>
  <gazebo reference="left_f2_j0">
    <cfmDamping>1</cfmDamping>
  </gazebo>
  <gazebo reference="left_f2_j1">
    <cfmDamping>1</cfmDamping>
  </gazebo>
  <gazebo reference="left_f2_j2">
    <cfmDamping>1</cfmDamping>
  </gazebo>
  <link name="left_f3_base">
    <origin rpy="0 0 0" xyz="0 0 0"/>
    <inertial>
      <!-- total mass is 2.303 kg, palm is about 1.303 kg, distribute the rest into _base -->
      <mass value="0.250"/>
      <!-- (2.303 - 1.303) / 4 -->
      <origin xyz="0 0 0"/>
      <!-- model as sphere with radius of 1cm -->
      <inertia ixx="0.00001" ixy="0" ixz="0" iyy="0.00001" iyz="0" izz="0.00001"/>
    </inertial>
  </link>
  <link name="left_f3_fixed_accel">
    <origin rpy="0 0 0" xyz="0 0 0"/>
    <inertial>
      <mass value="0.01"/>
      <origin xyz="0 0 0"/>
      <inertia ixx="0.000001" ixy="0" ixz="0" iyy="0.000001" iyz="0" izz="0.000001"/>
    </inertial>
  </link>
  <link name="left_f3_0">
    <origin rpy="0 0 0" xyz="0 0 0"/>
    <inertial>
      <mass value="0.106"/>
      <!-- F1 -->
      <origin xyz="0 0 0"/>
      <!-- solid cylinder -->
      <inertia ixx="0.000011925" ixy="0" ixz="0" iyy="0.00011505" iyz="0" izz="0.00011505"/>
    </inertial>
    <!-- begin simple shape approximation of f0 -->
    <collision group="default">
      <origin rpy="0 0 0" xyz="0 0 0.003"/>
      <geometry>
        <cylinder length="0.023" radius="0.015"/>
      </geometry>
    </collision>
    <collision group="other">
      <origin rpy="1.57079632679 0 0" xyz="0.011 0 0.003"/>
      <geometry>
        <cylinder length="0.023" radius="0.01"/>
      </geometry>
    </collision>
    <!--   end simple shape approximation of f0 -->
    <!-- begin visual shape approximation of f0 -->
    <visual>
      <origin rpy="0 0 0" xyz="0 0 0.003"/>
      <geometry>
        <cylinder length="0.023" radius="0.015"/>
      </geometry>
      <material name="left_sandia_hand_skin_suntan">
        <color rgba="0.7 0.4 0.2 1.0"/>
      </material>
    </visual>
    <visual>
      <origin rpy="1.57079632679 0 0" xyz="0.011 0 0.003"/>
      <geometry>
        <cylinder length="0.023" radius="0.01"/>
      </geometry>
      <material name="left_sandia_hand_skin_suntan">
        <color rgba="0.7 0.4 0.2 1.0"/>
      </material>
    </visual>
    <!--   end visual shape approximation of f0 -->
    <!-- begin collision mesh of f0 ->
      <collision group="default">
        <origin xyz="0 0 0" rpy="0 0 0"/>
        <geometry>
          <mesh filename="package://sandia_hand_description/meshes/f0.stl"/>
        </geometry>
      </collision>
      <!-   end collision mesh of f0 -->
    <!-- begin visual mesh of f0 ->
      <visual>
        <origin xyz="0 0 0" rpy="0 0 0"/>
        <geometry>
          <mesh filename="package://sandia_hand_description/meshes/f0.stl"/>
        </geometry>
        <material name="${side}_sandia_hand_skin_suntan">
          <color rgba="0.7 0.4 0.2 1.0"/>
        </material>
      </visual>
      <!-   end visual mesh of f0 -->
  </link>
  <link name="left_f3_1">
    <origin rpy="0 0 0" xyz="0 0 0"/>
    <inertial>
      <mass value="0.033"/>
      <!-- F2 -->
      <origin xyz="0 0 0"/>
      <!-- solid cylinder -->
      <inertia ixx="0.00000165" ixy="0" ixz="0" iyy="0.00001316975" iyz="0" izz="0.00001316975"/>
    </inertial>
    <!-- begin simple shape approximation of f1 -->
    <collision group="default">
      <origin rpy="0 1.57079632679 0" xyz="0.024 0 0"/>
      <geometry>
        <cylinder length="0.067" radius="0.01"/>
      </geometry>
    </collision>
    <!--   end simple shape approximation of f1 -->
    <!-- begin visual shape approximation of f1 -->
    <visual>
      <origin rpy="0 1.57079632679 0" xyz="0.024 0 0"/>
      <geometry>
        <cylinder length="0.067" radius="0.01"/>
      </geometry>
      <material name="left_sandia_hand_skin">
        <color rgba="0.835 0.655 0.345 1.0"/>
      </material>
    </visual>
    <!--   end visual shape approximation of f1 -->
    <!-- begin collision mesh of f1 ->
      <collision group="default">
        <origin xyz="0 0 0" rpy="0 0 0"/>
        <geometry>
          <mesh filename="package://sandia_hand_description/meshes/f1.stl"/>
        </geometry>
      </collision>
      <!-   end collision mesh of f1 -->
    <!-- begin visual mesh of f1 ->
      <visual>
        <origin xyz="0 0 0" rpy="0 0 0"/>
        <geometry>
          <mesh filename="package://sandia_hand_description/meshes/f1.stl"/>
        </geometry>
        <material name="${side}_sandia_hand_skin">
          <color rgba="0.835 0.655 0.345 1.0"/>
        </material>
      </visual>
      <!-   end visual mesh of f1 -->
  </link>
  <link name="left_f3_1_accel">
    <origin rpy="0 0 0" xyz="0 0 0"/>
    <inertial>
      <mass value="0.01"/>
      <origin xyz="0 0 0"/>
      <inertia ixx="0.000001" ixy="0" ixz="0" iyy="0.000001" iyz="0" izz="0.000001"/>
    </inertial>
  </link>
  <link name="left_f3_2">
    <origin rpy="0 0 0" xyz="0 0 0"/>
    <inertial>
      <mass value="0.033"/>
      <!-- F3 -->
      <origin xyz="0 0 0"/>
      <!-- solid cylinder -->
      <inertia ixx="0.0000013365" ixy="0" ixz="0" iyy="0.000009603" iyz="0" izz="0.000009603"/>
    </inertial>
    <!-- begin simple shape approximation of f2 -->
    <collision group="default">
      <origin rpy="0 1.57079632679 0" xyz="0.024 0 0"/>
      <geometry>
        <cylinder length="0.057" radius="0.009"/>
      </geometry>
    </collision>
    <collision group="other">
      <origin rpy="0 0 0" xyz="0.052 0 0"/>
      <geometry>
        <sphere radius="0.009"/>
      </geometry>
    </collision>
    <!--   end simple shape approximation of f2 -->
    <!-- begin visual shape approximation of f2 -->
    <visual>
      <origin rpy="0 1.57079632679 0" xyz="0.024 0 0"/>
      <geometry>
        <cylinder length="0.057" radius="0.009"/>
      </geometry>
      <material name="left_sandia_hand_skin_suntan">
        <color rgba="0.8 0.6 0.3 1.0"/>
      </material>
    </visual>
    <visual>
      <origin rpy="0 0 0" xyz="0.052 0 0"/>
      <geometry>
        <sphere radius="0.009"/>
      </geometry>
      <material name="left_sandia_hand_skin_suntan">
        <color rgba="0.8 0.6 0.3 1.0"/>
      </material>
    </visual>
    <!-- begin collision mesh of f2    ->
      <collision group="default">
        <origin xyz="0 0 0" rpy="0 0 0"/>
        <geometry>
          <mesh filename="package://sandia_hand_description/meshes/f2.stl"/>
        </geometry>
      </collision>
      <!-   end collision mesh of f2 -->
    <!-- begin visual mesh of f2    ->
      <visual>
        <origin xyz="0 0 0" rpy="0 0 0"/>
        <geometry>
          <mesh filename="package://sandia_hand_description/meshes/f2.stl"/>
        </geometry>
        <material name="${side}_sandia_hand_skin_suntan">
          <color rgba="0.8 0.6 0.3 1.0"/>
        </material>
      </visual>
      <!-   end visual mesh of f2 -->
  </link>
  <link name="left_f3_2_accel">
    <origin rpy="0 0 0" xyz="0 0 0"/>
    <inertial>
      <mass value="0.01"/>
      <origin xyz="0 0 0"/>
      <inertia ixx="0.000001" ixy="0" ixz="0" iyy="0.000001" iyz="0" izz="0.000001"/>
    </inertial>
  </link>
  <joint name="left_f3_base" type="fixed">
    <parent link="left_palm"/>
    <child link="left_f3_base"/>
    <origin rpy="0 -1.57079632679 2.3562" xyz="0.03995 0.04383 0.014"/>
  </joint>
  <joint name="left_f3_j0" type="revolute">
    <axis xyz="0 0 -1"/>
    <parent link="left_f3_base"/>
    <child link="left_f3_0"/>
    <limit effort="11" lower="-1.57079632679" upper="1.57079632679" velocity="24"/>
    <safety_controller k_position="1000.0" k_velocity="1000.0" soft_lower_limit="-11.57079" soft_upper_limit="11.57079"/>
    <dynamics damping="1.0"/>
    <origin rpy="0 0 0" xyz="0 0 0"/>
  </joint>
  <joint name="left_f3_j1" type="revolute">
    <axis xyz="0 0 1"/>
    <parent link="left_f3_0"/>
    <child link="left_f3_1"/>
    <limit effort="28" lower="-1.57079632679" upper="1.57079632679" velocity="24"/>
    <safety_controller k_position="1000.0" k_velocity="1000.0" soft_lower_limit="-11.57079" soft_upper_limit="11.57079"/>
    <dynamics damping="1.0"/>
    <origin rpy="1.57079632679 0 0" xyz="0.028 0 0"/>
  </joint>
  <joint name="left_f3_j2" type="revolute">
    <axis xyz="0 0 1"/>
    <parent link="left_f3_1"/>
    <child link="left_f3_2"/>
    <origin rpy="0 0 0" xyz="0.05 0 0"/>
    <safety_controller k_position="1000.0" k_velocity="1000.0" soft_lower_limit="-11.57079" soft_upper_limit="11.57079"/>
    <dynamics damping="1.0"/>
    <limit effort="28" lower="-1.57079632679" upper="1.57079632679" velocity="24"/>
  </joint>
  <joint name="left_f3_fixed_accel" type="fixed">
    <parent link="left_f3_base"/>
    <child link="left_f3_fixed_accel"/>
    <origin rpy="0 0 0" xyz="-0.05 0 0"/>
  </joint>
  <joint name="left_f3_1_accel" type="fixed">
    <parent link="left_f3_1"/>
    <child link="left_f3_1_accel"/>
    <origin rpy="-1.57079632679 0 0" xyz="0.03 0 0"/>
  </joint>
  <joint name="left_f3_2_accel" type="fixed">
    <parent link="left_f3_2"/>
    <child link="left_f3_2_accel"/>
    <origin rpy="-1.57079632679 0 0" xyz="0.04 0 0"/>
  </joint>
  <transmission name="left_f3_j0" type="pr2_mechanism_model/SimpleTransmission">
    <joint name="left_f3_j0"/>
    <actuator name="left_f3_j0_motor"/>
    <mechanicalReduction>1</mechanicalReduction>
  </transmission>
  <transmission name="left_f3_j1" type="pr2_mechanism_model/SimpleTransmission">
    <joint name="left_f3_j1"/>
    <actuator name="left_f3_j1_motor"/>
    <mechanicalReduction>1</mechanicalReduction>
  </transmission>
  <transmission name="left_f3_j2" type="pr2_mechanism_model/SimpleTransmission">
    <joint name="left_f3_j2"/>
    <actuator name="left_f3_j2_motor"/>
    <mechanicalReduction>1</mechanicalReduction>
  </transmission>
  <gazebo reference="left_f3_base">
    <mu1>1.1</mu1>
    <mu2>1.1</mu2>
    <kp>1000000.0</kp>
    <kd>10.0</kd>
    <maxVel>0.1</maxVel>
    <minDepth>0.00</minDepth>
    <maxContacts>1</maxContacts>
    <material>Gazebo/FlatBlack</material>
  </gazebo>
  <gazebo reference="left_f3_0">
    <mu1>1.1</mu1>
    <mu2>1.1</mu2>
    <kp>1000000.0</kp>
    <kd>10.0</kd>
    <maxVel>0.1</maxVel>
    <minDepth>0.00</minDepth>
    <maxContacts>1</maxContacts>
    <material>Gazebo/FlatBlack</material>
  </gazebo>
  <gazebo reference="left_f3_1">
    <mu1>1.1</mu1>
    <mu2>1.1</mu2>
    <kp>1000000.0</kp>
    <kd>10.0</kd>
    <maxVel>0.1</maxVel>
    <minDepth>0.00</minDepth>
    <maxContacts>1</maxContacts>
    <material>Gazebo/FlatBlack</material>
  </gazebo>
  <gazebo reference="left_f3_2">
    <mu1>1.1</mu1>
    <mu2>1.1</mu2>
    <kp>1000000.0</kp>
    <kd>10.0</kd>
    <maxVel>0.1</maxVel>
    <minDepth>0.00</minDepth>
    <maxContacts>1</maxContacts>
    <material>Gazebo/FlatBlack</material>
  </gazebo>
  <gazebo reference="left_f3_j0">
    <cfmDamping>1</cfmDamping>
  </gazebo>
  <gazebo reference="left_f3_j1">
    <cfmDamping>1</cfmDamping>
  </gazebo>
  <gazebo reference="left_f3_j2">
    <cfmDamping>1</cfmDamping>
  </gazebo>
  <gazebo reference="left_palm">
    <mu1>1.1</mu1>
    <mu2>1.1</mu2>
    <kp>1000000.0</kp>
    <kd>1.0</kd>
    <maxVel>0.1</maxVel>
    <minDepth>0.00</minDepth>
    <maxContacts>6</maxContacts>
    <material>Gazebo/FlatBlack</material>
  </gazebo>
  <joint name="left_palm_left_camera_frame_joint" type="fixed">
    <origin rpy="-0.6708 -1.57079632679 3.14159265359" xyz="0.0435128991906 -0.0451672761576 0.025"/>
    <parent link="left_palm"/>
    <child link="left_palm_left_camera_frame"/>
  </joint>
  <link name="left_palm_left_camera_frame">
    <inertial>
      <mass value="0.01"/>
      <origin xyz="0 0 0"/>
      <inertia ixx="0.0001" ixy="0.0" ixz="0.0" iyy="0.0001" iyz="0.0" izz="0.0001"/>
    </inertial>
    <visual group="default">
      <origin rpy="0 0 0" xyz="0 0 0"/>
      <geometry>
        <box size="0.003 0.010 0.007"/>
      </geometry>
    </visual>
  </link>
  <joint name="left_palm_left_camera_optical_frame_joint" type="fixed">
    <origin rpy="-1.57079632679 0.0 -1.57079632679" xyz="0 0 0"/>
    <parent link="left_palm_left_camera_frame"/>
    <child link="left_palm_left_camera_optical_frame"/>
  </joint>
  <link name="left_palm_left_camera_optical_frame"/>
  <gazebo reference="left_palm_left_camera_frame">
    <sensor name="left_palm_stereo_camera" type="multicamera">
      <update_rate>30.0</update_rate>
      <camera name="left">
        <horizontal_fov>1.25663706144</horizontal_fov>
        <image>
          <width>752</width>
          <height>480</height>
          <format>L8</format>
        </image>
        <clip>
          <near>0.02</near>
          <far>100</far>
        </clip>
        <noise>
          <type>gaussian</type>
          <mean>0.0</mean>
          <stddev>0.007</stddev>
        </noise>
      </camera>
      <camera name="right">
        <pose>0 -0.04 0  0 0 0</pose>
        <horizontal_fov>1.25663706144</horizontal_fov>
        <image>
          <width>752</width>
          <height>480</height>
          <format>L8</format>
        </image>
        <clip>
          <near>0.02</near>
          <far>100</far>
        </clip>
        <noise>
          <type>gaussian</type>
          <mean>0.0</mean>
          <stddev>0.007</stddev>
        </noise>
      </camera>
      <plugin filename="libgazebo_ros_multicamera.so" name="stereo_camera_controller">
        <alwaysOn>true</alwaysOn>
        <updateRate>0.0</updateRate>
        <cameraName>sandia_hands/l_hand/camera</cameraName>
        <imageTopicName>image_raw</imageTopicName>
        <cameraInfoTopicName>camera_info</cameraInfoTopicName>
        <frameName>left_palm_left_camera_optical_frame</frameName>
        <hackBaseline>0.04</hackBaseline>
        <distortionK1>0.0</distortionK1>
        <distortionK2>0.0</distortionK2>
        <distortionK3>0.0</distortionK3>
        <distortionT1>0.0</distortionT1>
        <distortionT2>0.0</distortionT2>
      </plugin>
    </sensor>
  </gazebo>
  <joint name="left_palm_right_camera_frame_joint" type="fixed">
    <origin rpy="-0.6708 -1.57079632679 3.14159265359" xyz="0.0683774130138 -0.0138342911048 0.025"/>
    <parent link="left_palm"/>
    <child link="left_palm_right_camera_frame"/>
  </joint>
  <link name="left_palm_right_camera_frame">
    <inertial>
      <mass value="0.01"/>
      <origin xyz="0 0 0"/>
      <inertia ixx="0.0001" ixy="0.0" ixz="0.0" iyy="0.0001" iyz="0.0" izz="0.0001"/>
    </inertial>
    <visual group="default">
      <origin rpy="0 0 0" xyz="0 0 0"/>
      <geometry>
        <box size="0.003 0.010 0.007"/>
      </geometry>
    </visual>
  </link>
  <joint name="left_palm_right_camera_optical_frame_joint" type="fixed">
    <origin rpy="-1.57079632679 0.0 -1.57079632679" xyz="0 0 0"/>
    <parent link="left_palm_right_camera_frame"/>
    <child link="left_palm_right_camera_optical_frame"/>
  </joint>
  <link name="left_palm_right_camera_optical_frame"/>

</robot>
